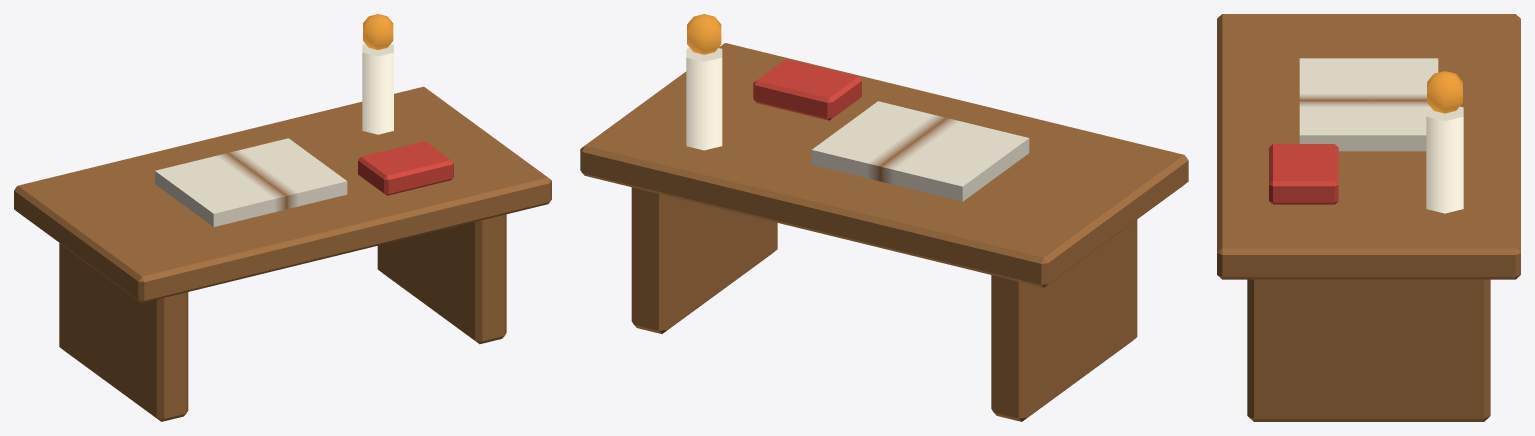
Rendered from prop_table_9bdf.glb.
The picture shows the model from 3 angles, left to right: view 1: azimuth 30°, elevation 25°; view 2: azimuth 150°, elevation 25°; view 3: azimuth 270°, elevation 25°; orthographic projection. The views are drawn at different scales.
Parts seen in each view (by area): view 1: prop_table_9bdf; view 2: prop_table_9bdf; view 3: prop_table_9bdf.
Part boxes in pixels (x1,y1,x2,y2): prop_table_9bdf: (14,14,551,421); prop_table_9bdf: (580,14,1188,421); prop_table_9bdf: (1217,14,1520,421).
Bounding box in the file's own units: 1.15 × 0.7292 × 0.6188.
Materials: 2 (2 with a texture image).
